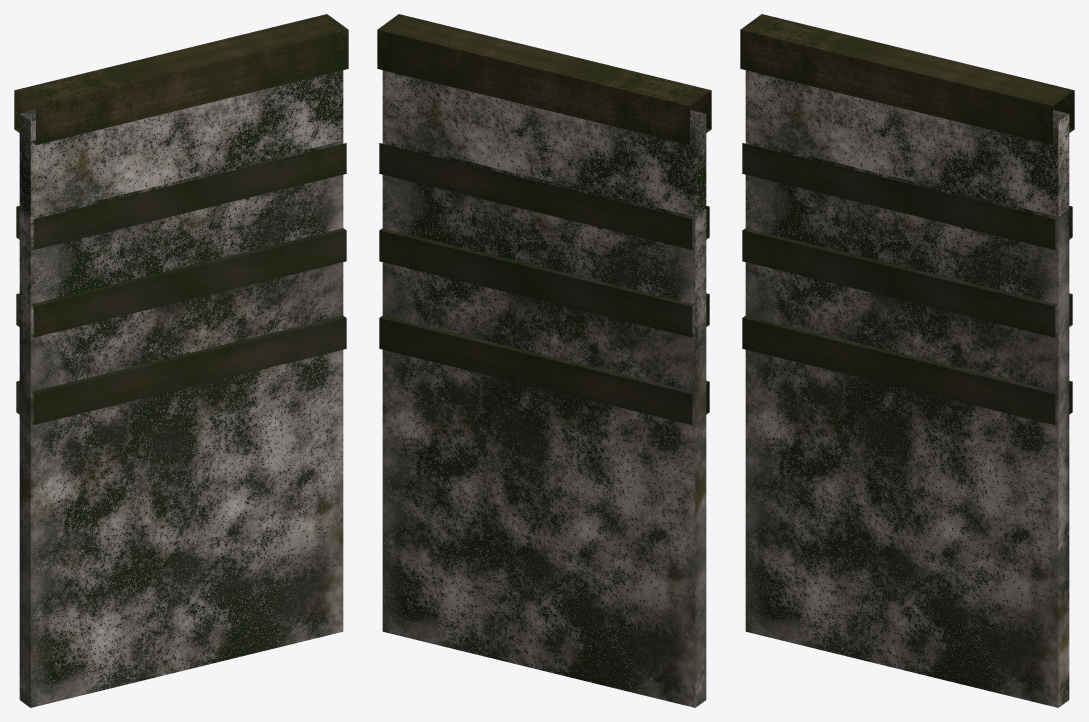
Rendered from shrine_wall_02.fbx.
3 views of the same model, side by side, from view 1: azimuth 30°, elevation 25°; view 2: azimuth 150°, elevation 25°; view 3: azimuth 330°, elevation 25° (orthographic).
Visible parts, largest first — view 1: shrine_wall_02; view 2: shrine_wall_02; view 3: shrine_wall_02.
Part boxes in pixels (x1,y1,x2,y2): shrine_wall_02: (14, 14, 348, 707); shrine_wall_02: (377, 14, 711, 707); shrine_wall_02: (740, 14, 1074, 707).
Size of the model in its own units: 330 by 611 by 39.4.
Materials: 2 (2 with a texture image).
